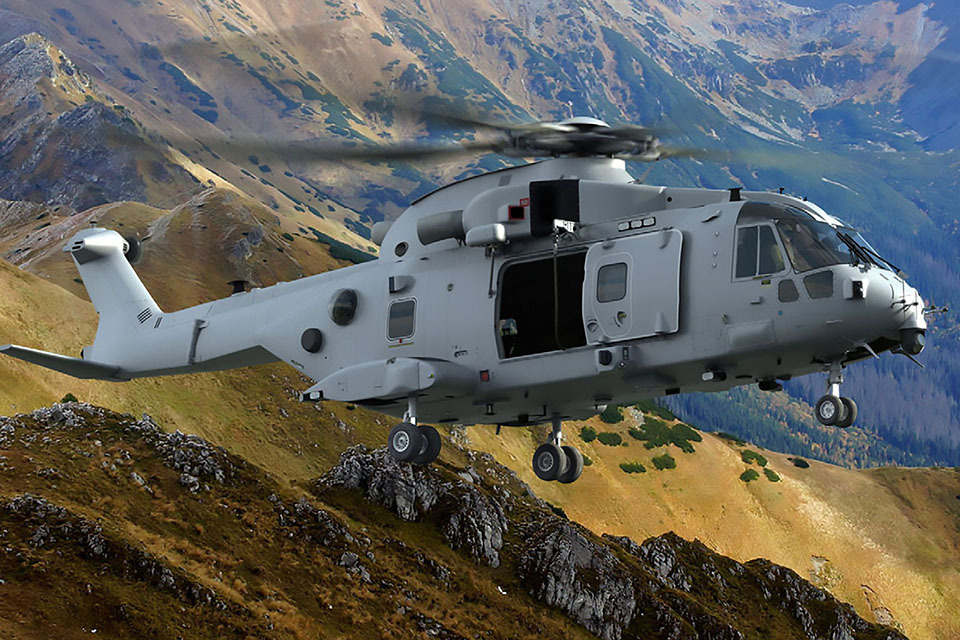Merlin: (1, 110, 949, 486)
